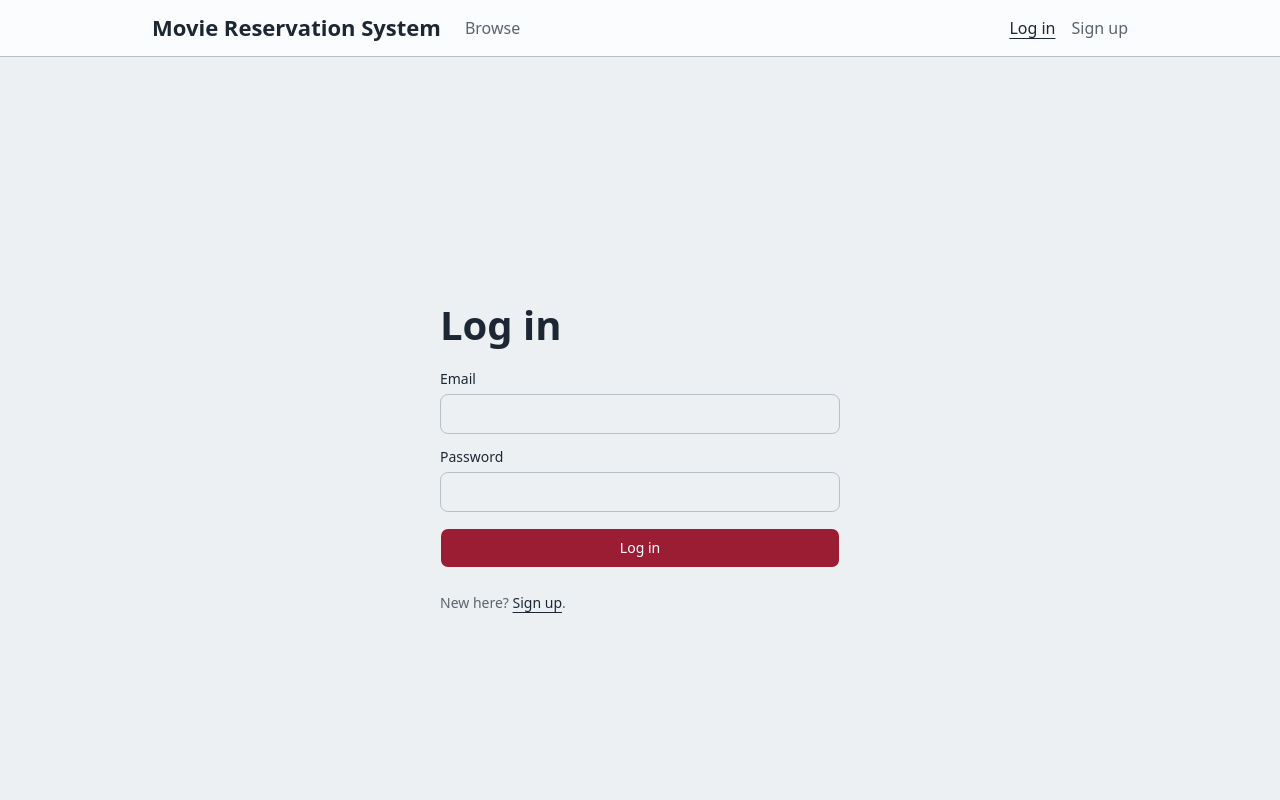
Test: auth › login_success_stores_token_and_redirects_to_next_path
In the field labelled "Email": (640, 414) [440,394,840,434], type "ana@example.com"
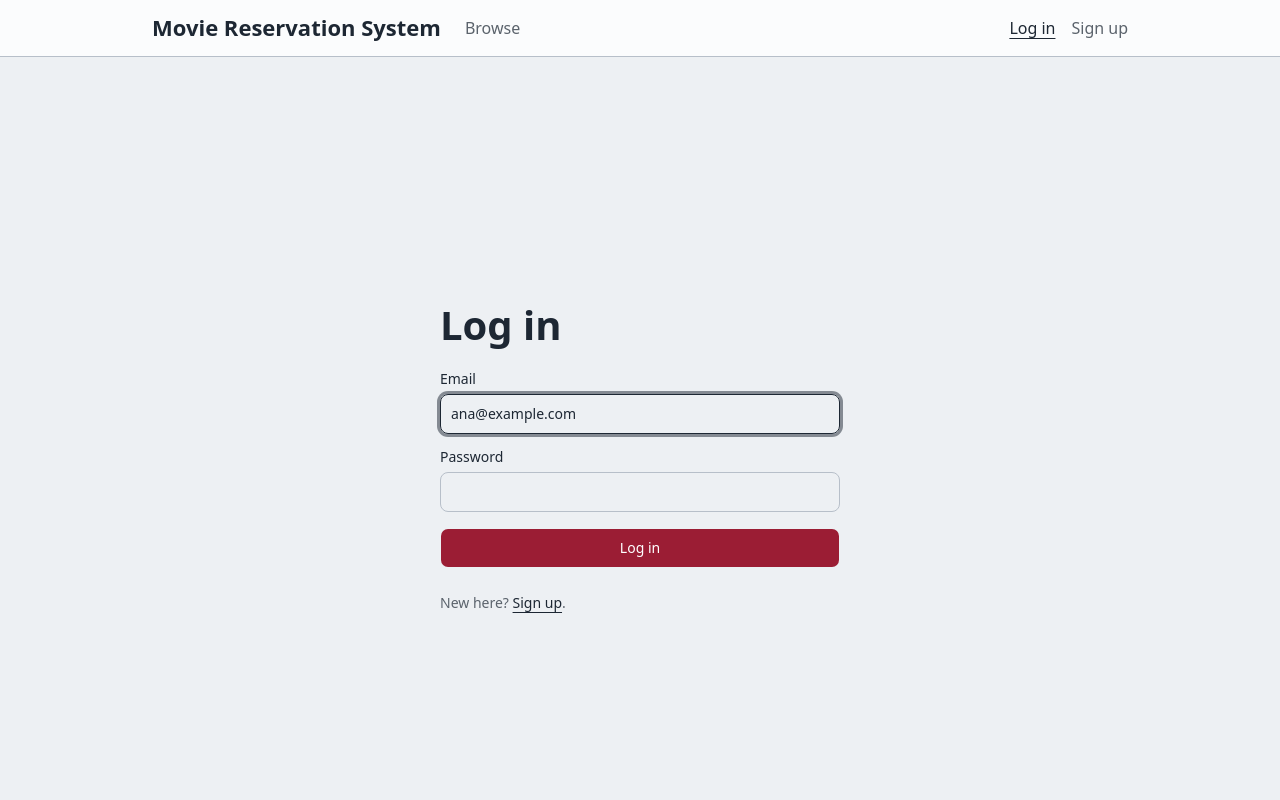
In the password field labelled "Password": (640, 492) [440,472,840,512], type "correct-horse-battery"
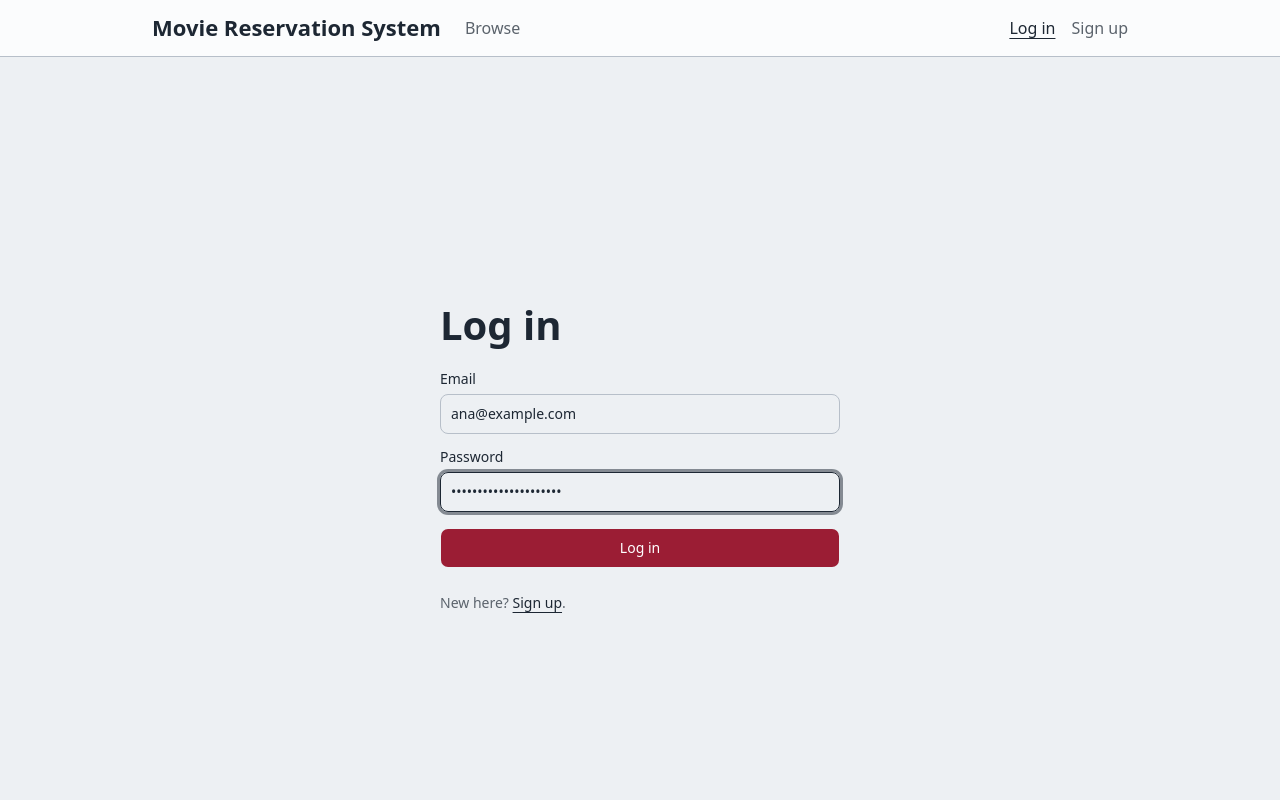
Click the button "Log in": (640, 548) [440,528,840,568]
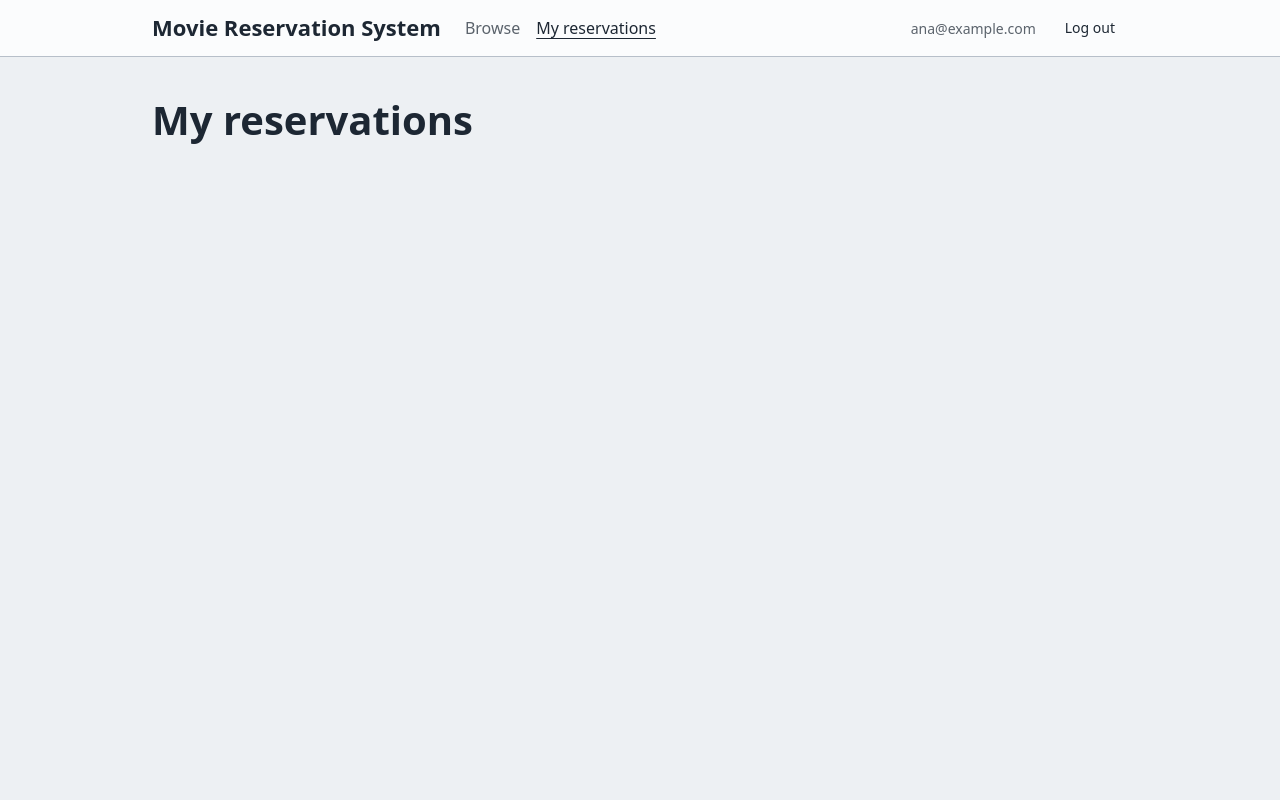
Check: the heading "My reservations" is shown, box [152,92,473,147]
